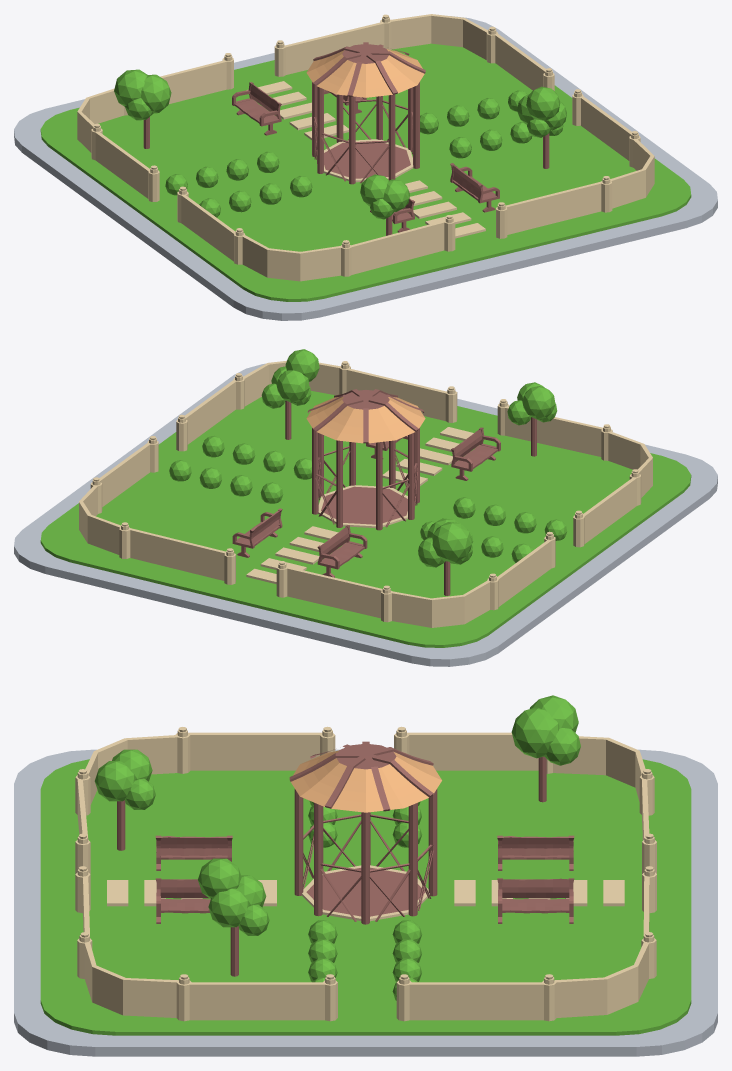
The model's file is infrastructure-building-park.fbx.
3 views of the same model, one above another, from view 1: azimuth 30°, elevation 25°; view 2: azimuth 150°, elevation 25°; view 3: azimuth 270°, elevation 25° (orthographic). The views are drawn at different scales.
Parts seen in each view (by area): view 1: infrastructure-building-park; view 2: infrastructure-building-park; view 3: infrastructure-building-park.
Boxes of the visible parts, x1,y1,x2,y2 form: infrastructure-building-park: (14, 14, 717, 320); infrastructure-building-park: (14, 349, 717, 666); infrastructure-building-park: (14, 695, 717, 1056).
Bounding box in the file's own units: 26.08 × 6.3 × 26.08.
